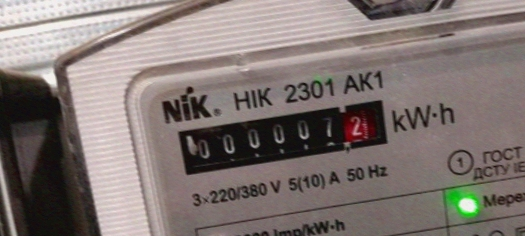0: (195, 135, 212, 160), (271, 121, 288, 146), (246, 125, 262, 150), (295, 116, 311, 141), (221, 131, 237, 155)
2: (348, 113, 364, 138)
7: (321, 113, 336, 138)
screen: (166, 87, 400, 185)
